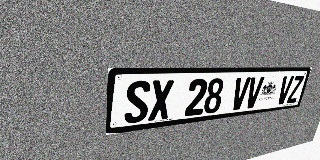2: (184, 78, 208, 116)
8: (203, 78, 226, 114)
S: (124, 80, 151, 124)
V: (229, 77, 251, 111), (244, 77, 264, 109), (275, 76, 294, 105)
X: (148, 80, 174, 121)
Z: (286, 75, 305, 103)
